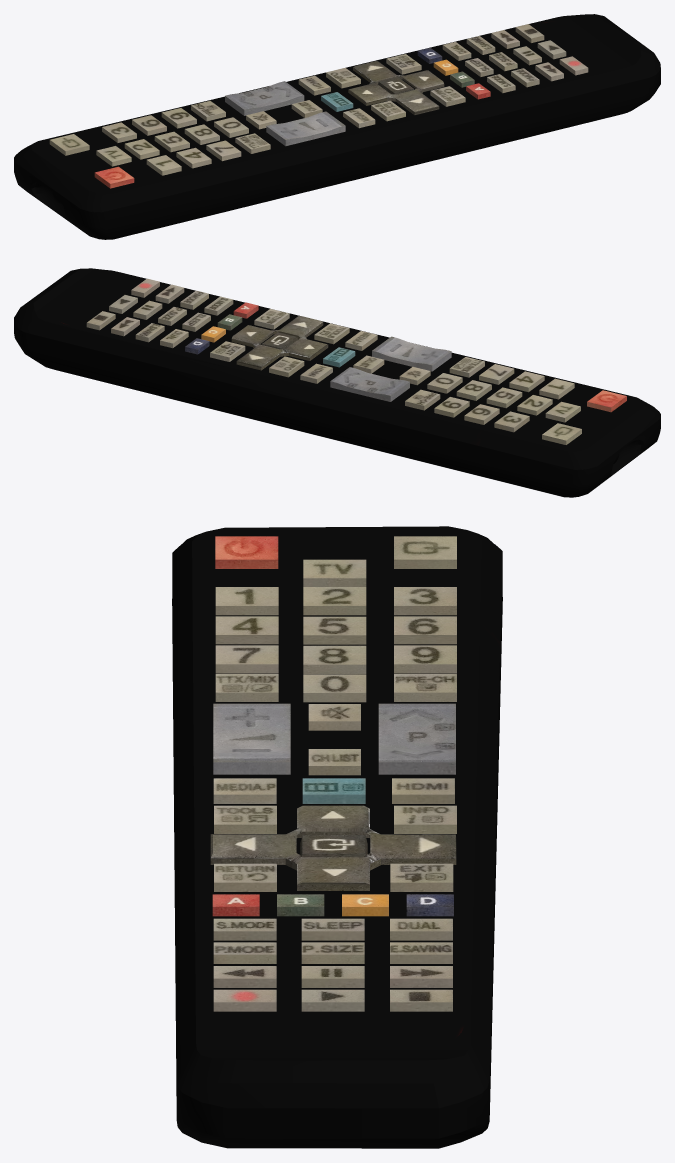
The model's file is remoteController.gltf.
3 views of the same model, one above another, from view 1: azimuth 30°, elevation 25°; view 2: azimuth 150°, elevation 25°; view 3: azimuth 270°, elevation 25° (orthographic). The views are drawn at different scales.
Parts seen in each view (by area): view 1: Sphere_Sphere.001; view 2: Sphere_Sphere.001; view 3: Sphere_Sphere.001.
Boxes of the visible parts, box(x1,y1,x2,y2) form: Sphere_Sphere.001: box(14, 14, 660, 239); Sphere_Sphere.001: box(14, 268, 660, 497); Sphere_Sphere.001: box(172, 526, 502, 1148).
Size of the model in its own units: 7.86 by 0.6274 by 1.92.
Materials: 2 (2 with a texture image).
